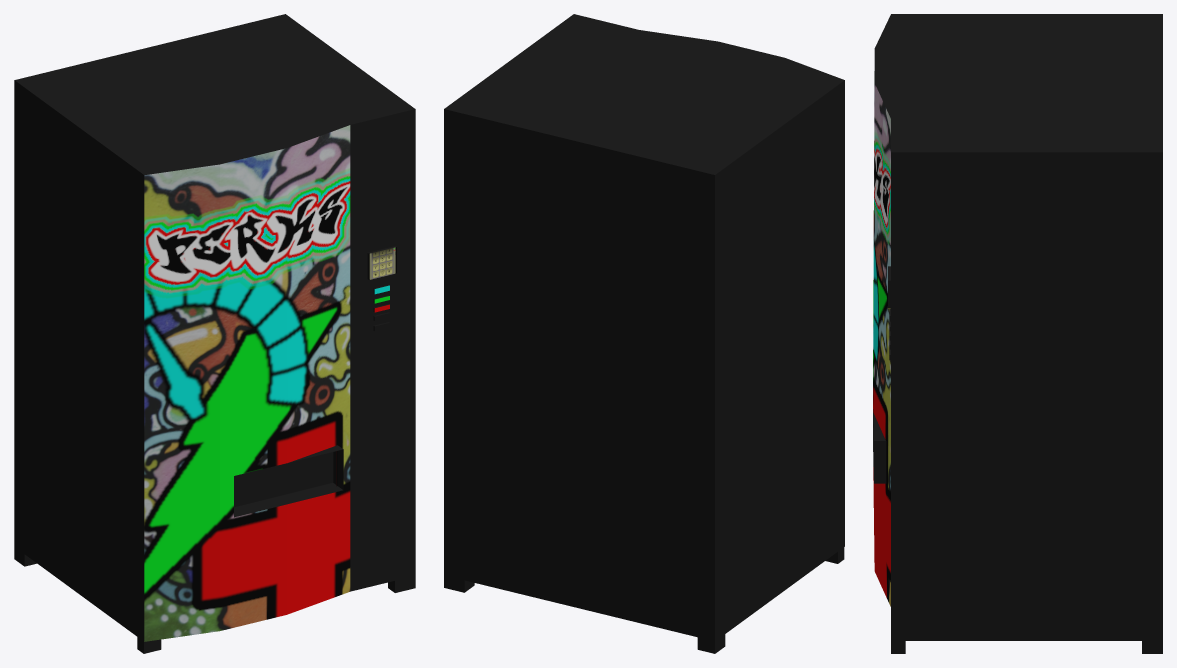
The model's file is PerkVendingMachine.glb.
The picture shows the model from 3 angles, left to right: view 1: azimuth 30°, elevation 25°; view 2: azimuth 150°, elevation 25°; view 3: azimuth 270°, elevation 25°; orthographic projection. The views are drawn at different scales.
Visible parts, largest first — view 1: Cube; view 2: Cube; view 3: Cube.
Boxes of the visible parts, left/top/right/bottom form: Cube: left=14, top=14, right=415, bottom=653; Cube: left=444, top=14, right=844, bottom=653; Cube: left=873, top=14, right=1162, bottom=653.
Bounding box in the file's own units: 4.85 × 8.19 × 4.29.
1 material, 1 textured.
